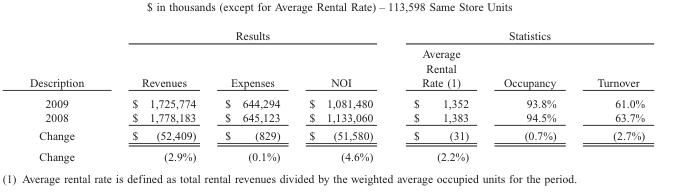table: (28, 29, 644, 162)
table column: (107, 29, 209, 162), (293, 29, 392, 162), (392, 29, 485, 162), (485, 29, 576, 162), (209, 29, 293, 162), (28, 29, 107, 162), (576, 29, 644, 162)
table column header: (28, 29, 644, 92)
table row: (28, 44, 644, 92), (28, 125, 644, 145), (28, 92, 644, 109), (28, 145, 644, 162), (28, 109, 644, 125), (28, 29, 644, 44)
table spanning cell: (28, 29, 107, 92), (107, 29, 392, 44), (392, 29, 644, 44)
